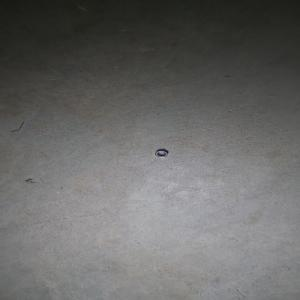Nut: (154, 150, 168, 158)
